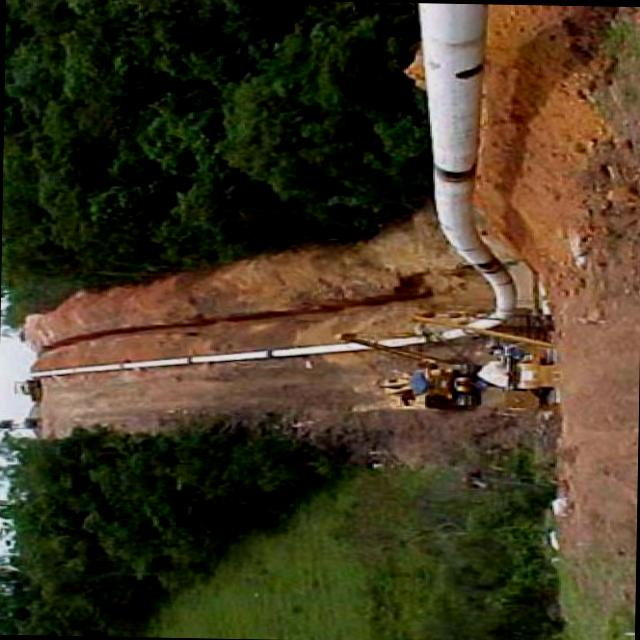gas: (26, 2, 517, 379)
